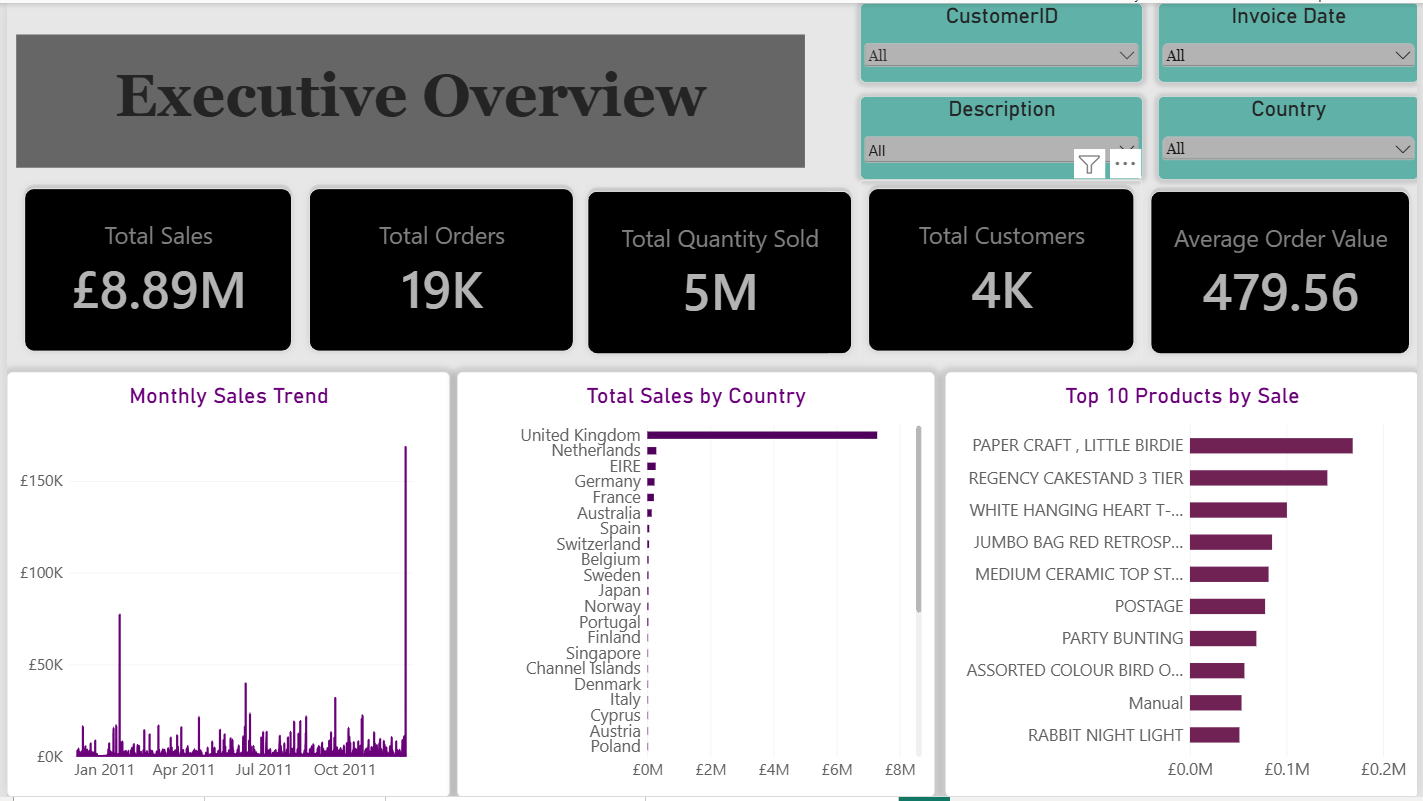

Layout of this report page (visuals, bound fields, positions):
{"tool":"powerbi","page":{"name":"Executive Overview","canvas":[1920,1080],"ordinal":0},"visuals":[{"type":"cardVisual","title":"Total Sales","fields":{"Data":["ecommerce_cleaned csv.Total Sales"]},"box":[13.1,240.8,386.4,244.5],"z":0},{"type":"lineChart","title":"Monthly Sales Trend","fields":{"Category":["ecommerce_cleaned csv.InvoiceDate"],"Y":["ecommerce_cleaned csv.Total Sales"]},"box":[0,502.1,602.9,578.7],"z":1000},{"type":"clusteredBarChart","fields":{"Category":["ecommerce_cleaned csv.Country"],"Y":["ecommerce_cleaned csv.Total Sales"]},"box":[612.3,502.1,649.6,578.7],"z":2000},{"type":"clusteredBarChart","title":"Top 10 Products by Sale","fields":{"Category":["ecommerce_cleaned csv.Description"],"Y":["ecommerce_cleaned csv.Total Sales"]},"box":[1276.8,502.1,644,578.7],"z":3000},{"type":"slicer","title":"Invoice Date","fields":{"Values":["ecommerce_cleaned csv.InvoiceDate"]},"box":[1566.1,0,354.7,108.3],"z":4000},{"type":"slicer","title":"Country","fields":{"Values":["ecommerce_cleaned csv.Country"]},"box":[1566.1,126.9,354.7,113.9],"z":5000},{"type":"textbox","box":[13.1,42.9,1073.3,181.1],"z":6000},{"type":"slicer","title":"CustomerID","fields":{"Values":["ecommerce_cleaned csv.CustomerID"]},"box":[1161.1,0,384.5,108.3],"z":7000},{"type":"slicer","title":"Description","fields":{"Values":["ecommerce_cleaned csv.Description"]},"box":[1161.1,126.9,384.5,113.9],"z":8000},{"type":"cardVisual","title":"Total Sales","fields":{"Data":["ecommerce_cleaned csv.Total Orders"]},"box":[399.5,240.8,382.7,244.5],"z":9000},{"type":"cardVisual","title":"Total Sales","fields":{"Data":["ecommerce_cleaned csv.Total Quantity Sold"]},"box":[778.4,244.5,382.7,244.5],"z":10000},{"type":"cardVisual","title":"Total Sales","fields":{"Data":["ecommerce_cleaned csv.Total Customers"]},"box":[1161.1,240.8,384.5,244.5],"z":11000},{"type":"cardVisual","title":"Total Sales","fields":{"Data":["ecommerce_cleaned csv.Average Order Value"]},"box":[1545.6,244.5,375.2,244.5],"z":12000}]}

Visuals, with their boxes in screenshot pixels (x1, y1, x2, y2), scaled from the page's 1920x1080 canvas onto the 1423x801 screenshot:
"Total Sales" cardVisual: 10, 179, 296, 360
"Monthly Sales Trend" lineChart: 0, 372, 447, 800
clusteredBarChart - ecommerce_cleaned csv.Country x ecommerce_cleaned csv.Total Sales: 454, 372, 935, 800
"Top 10 Products by Sale" clusteredBarChart: 946, 372, 1422, 800
"Invoice Date" slicer: 1161, 0, 1422, 80
"Country" slicer: 1161, 94, 1422, 179
textbox: 10, 32, 805, 166
"CustomerID" slicer: 861, 0, 1146, 80
"Description" slicer: 861, 94, 1146, 179
"Total Sales" cardVisual: 296, 179, 580, 360
"Total Sales" cardVisual: 577, 181, 861, 363
"Total Sales" cardVisual: 861, 179, 1146, 360
"Total Sales" cardVisual: 1146, 181, 1422, 363
